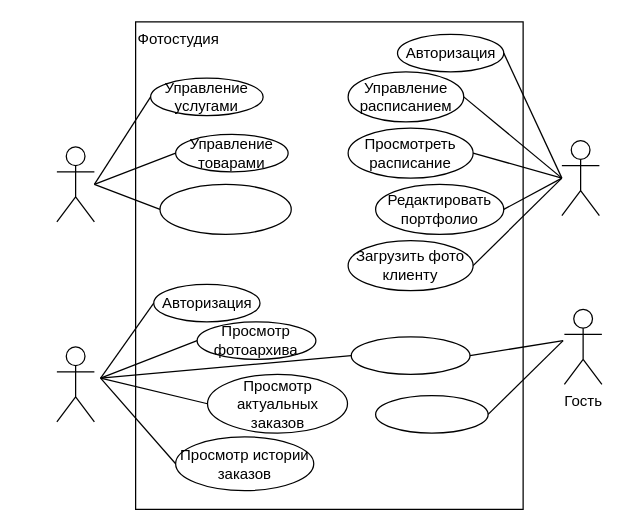
Image size: 636x531. Some labels were removed from this diagram. The shapes that lost their labels are listed below. From the top down, each one's centre as x and y in pixels, then its label:
(x=75, y=184): Администратор
(x=580, y=177): Фотограф
(x=225, y=208): Управление пользователями
(x=410, y=355): Оформление заказа
(x=75, y=384): Клиент
(x=431, y=413): Регистрация
